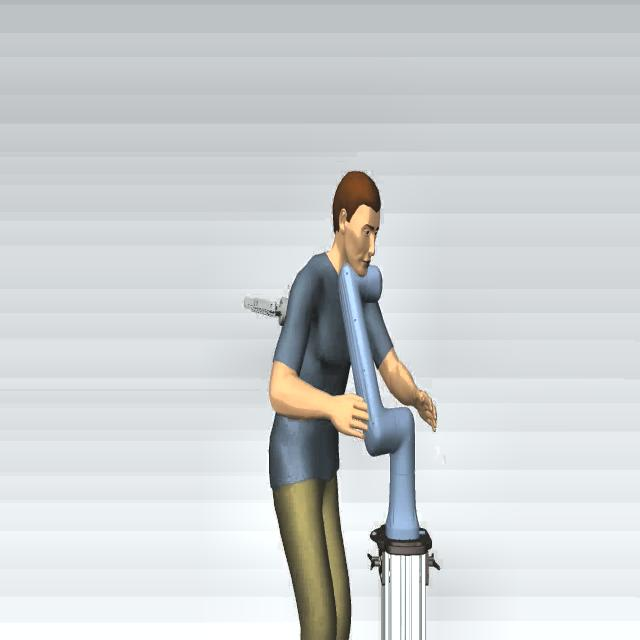robot: (331, 254, 429, 574)
